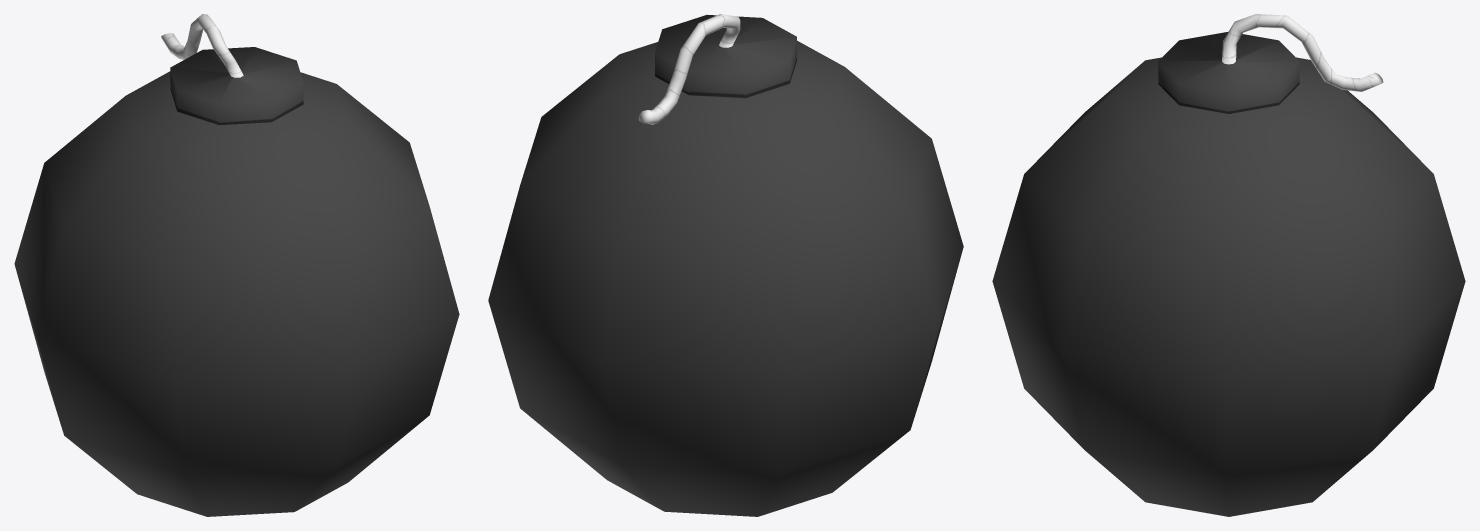
File: Bomba.fbx
3 views of the same model, side by side, from view 1: azimuth 30°, elevation 25°; view 2: azimuth 150°, elevation 25°; view 3: azimuth 270°, elevation 25° (orthographic). The views are drawn at different scales.
Visible parts, largest first — view 1: Sphere; view 2: Sphere; view 3: Sphere.
Part boxes in pixels (x1,y1,x2,y2): Sphere: [14, 14, 459, 516]; Sphere: [488, 14, 963, 516]; Sphere: [992, 14, 1465, 516].
Bounding box in the file's own units: 35.8 × 39.83 × 35.8.
